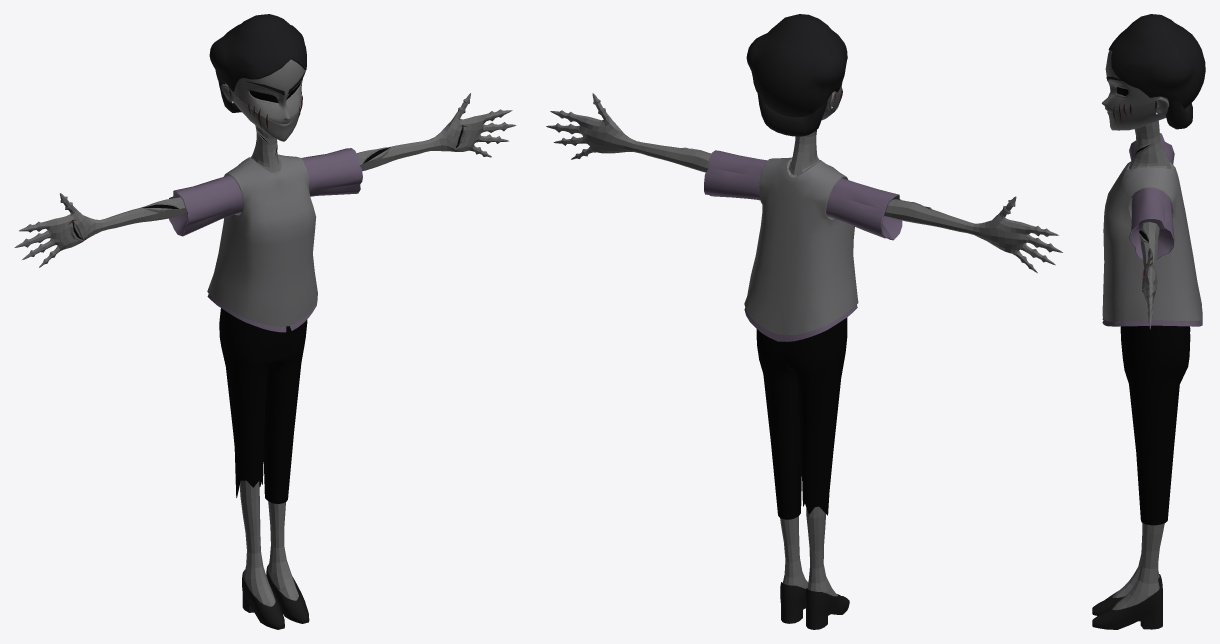
File: MOTHER.fbx
3 views of the same model, side by side, from view 1: azimuth 30°, elevation 25°; view 2: azimuth 150°, elevation 25°; view 3: azimuth 270°, elevation 25° (orthographic). The views are drawn at different scales.
Visible parts, largest first — view 1: clothing, body, pants, clothing_sleeve, hair, face, shoe_R, shoe_L; view 2: clothing, pants, body, hair, clothing_sleeve, shoe_R, shoe_L; view 3: clothing, pants, hair, body, clothing_sleeve, face, shoe_L, shoe_R.
Boxes of the visible parts, x1,y1,x2,y2 form: clothing: (207, 154, 317, 326); body: (14, 93, 516, 606); pants: (219, 308, 307, 503); clothing_sleeve: (169, 148, 362, 332); hair: (209, 14, 306, 112); face: (221, 59, 304, 141); shoe_R: (242, 570, 284, 629); shoe_L: (266, 564, 309, 623); clothing: (744, 157, 858, 335); pants: (756, 317, 847, 519); body: (546, 93, 1062, 596); hair: (746, 14, 847, 136); clothing_sleeve: (704, 150, 902, 341); shoe_R: (805, 588, 849, 629); shoe_L: (780, 582, 805, 623); clothing: (1102, 161, 1202, 322); pants: (1120, 325, 1190, 525); hair: (1108, 14, 1205, 129); body: (1112, 120, 1171, 610); clothing_sleeve: (1102, 133, 1202, 326); face: (1102, 50, 1169, 130); shoe_L: (1092, 586, 1162, 629); shoe_R: (1092, 574, 1162, 615).
Bounding box in the file's own units: 2.25 × 2.52 × 0.4297.
